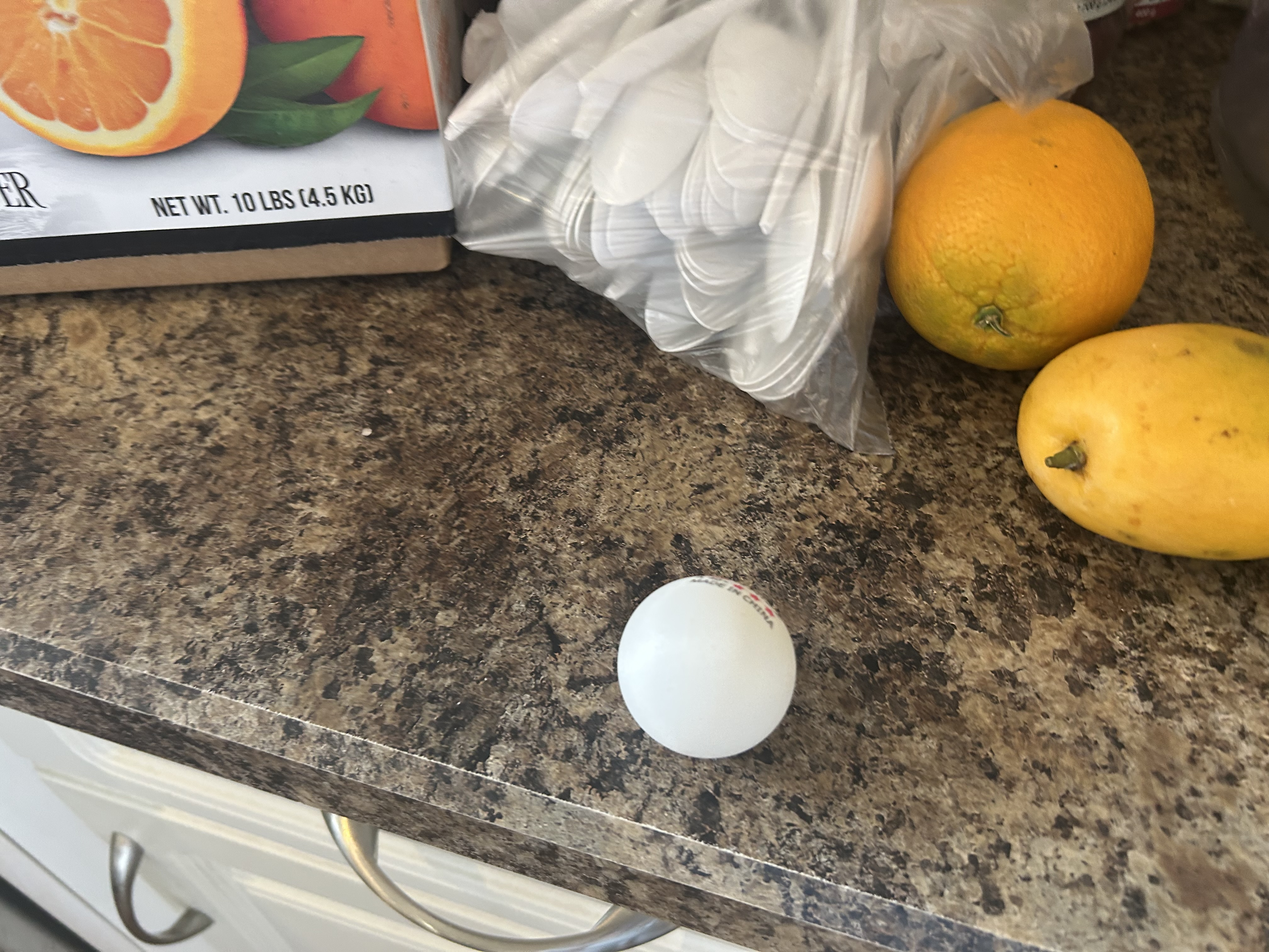Ball: (614, 569, 818, 765)
